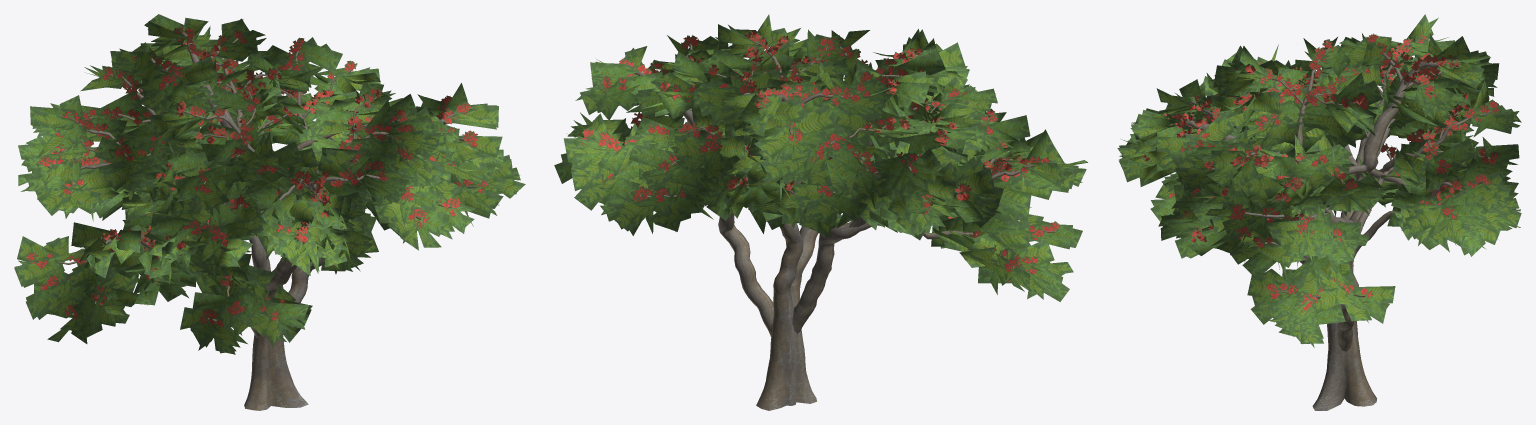
The model's file is SM_tree_delonix_02.fbx.
The picture shows the model from 3 angles, left to right: view 1: azimuth 30°, elevation 25°; view 2: azimuth 150°, elevation 25°; view 3: azimuth 270°, elevation 25°; orthographic projection. The views are drawn at different scales.
Visible parts, largest first — view 1: SM_tree_delonix_02_LOD0; view 2: SM_tree_delonix_02_LOD0; view 3: SM_tree_delonix_02_LOD0.
Part boxes in pixels (x1,y1,x2,y2): SM_tree_delonix_02_LOD0: (14,14,525,410); SM_tree_delonix_02_LOD0: (554,14,1087,410); SM_tree_delonix_02_LOD0: (1117,14,1521,410).
Bounding box in the file's own units: 1144 × 860 × 787.
2 materials, 2 textured.
